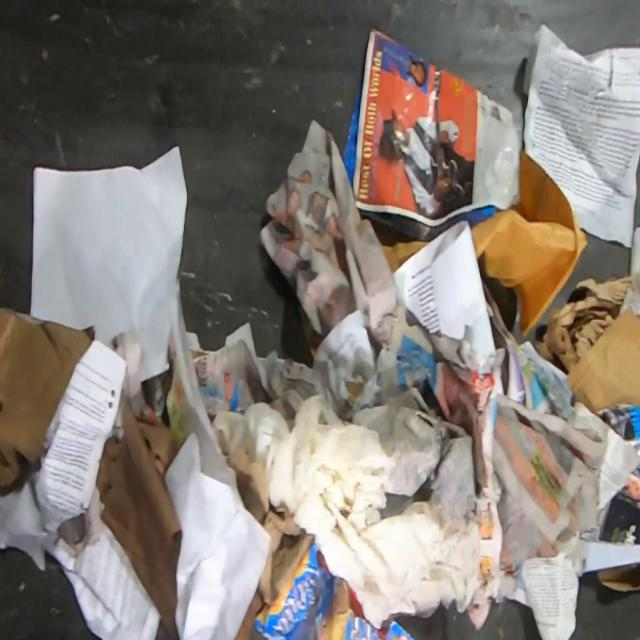cardboard: (96, 400, 183, 640), (0, 308, 96, 487), (565, 286, 640, 416)
soft_plastic: (254, 542, 417, 640)
